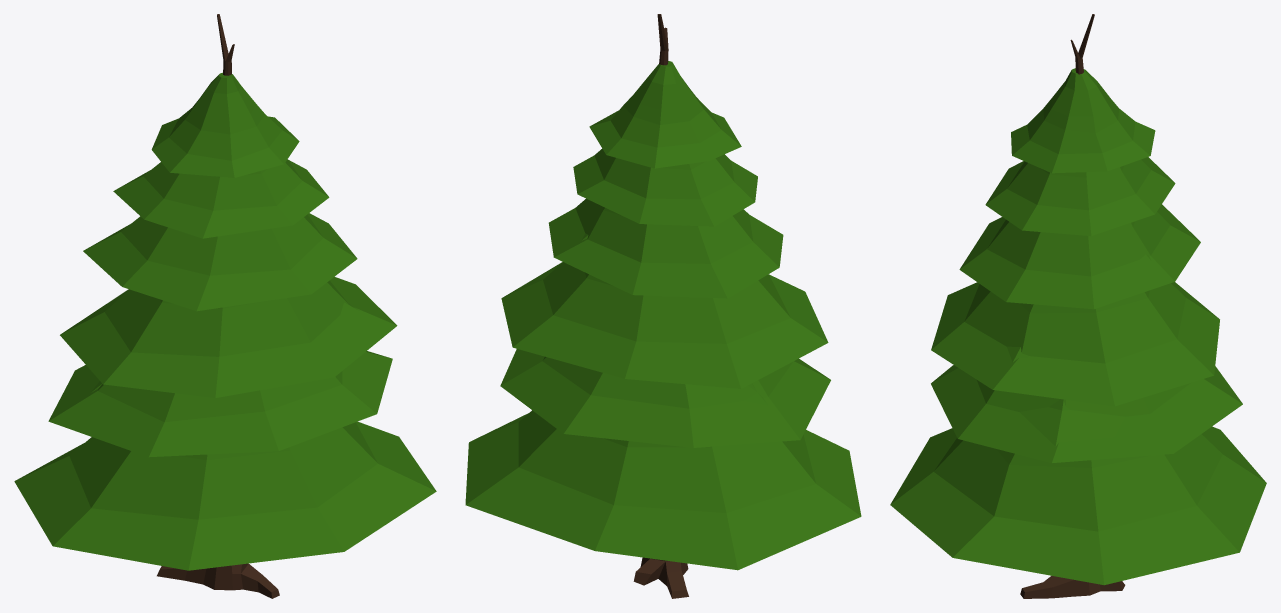
Rendered from low_poly_pine_tree1.glb.
The picture shows the model from 3 angles, left to right: view 1: azimuth 30°, elevation 25°; view 2: azimuth 150°, elevation 25°; view 3: azimuth 270°, elevation 25°; orthographic projection.
Visible parts, largest first — view 1: pinetree; view 2: pinetree; view 3: pinetree.
Boxes of the visible parts, x1,y1,x2,y2 form: pinetree: [14, 14, 436, 598]; pinetree: [465, 14, 861, 598]; pinetree: [890, 14, 1266, 598].
Size of the model in its own units: 6.72 by 9.75 by 5.83.
